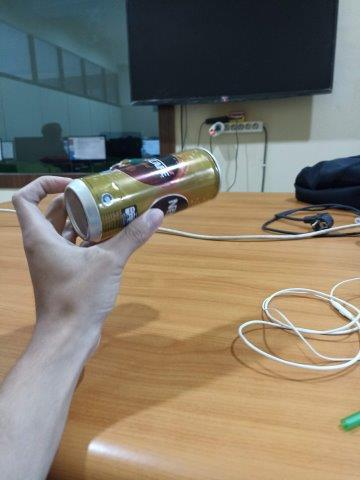kaleng: (64, 147, 222, 243)
